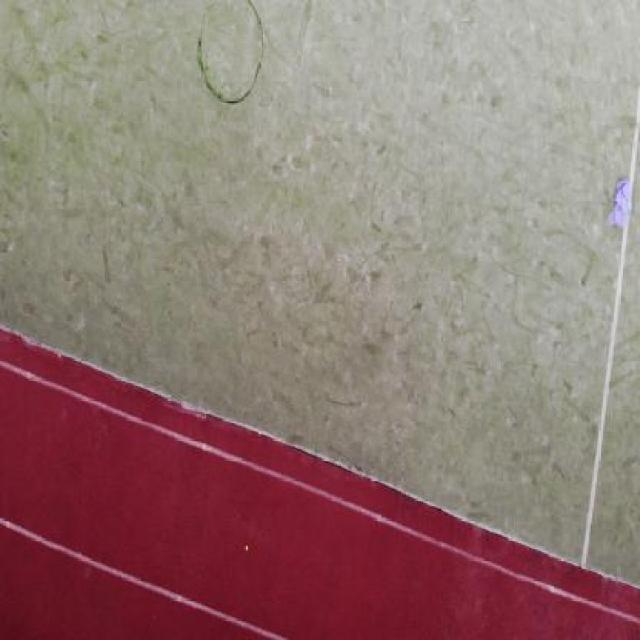Garbage: (607, 181, 635, 229)
